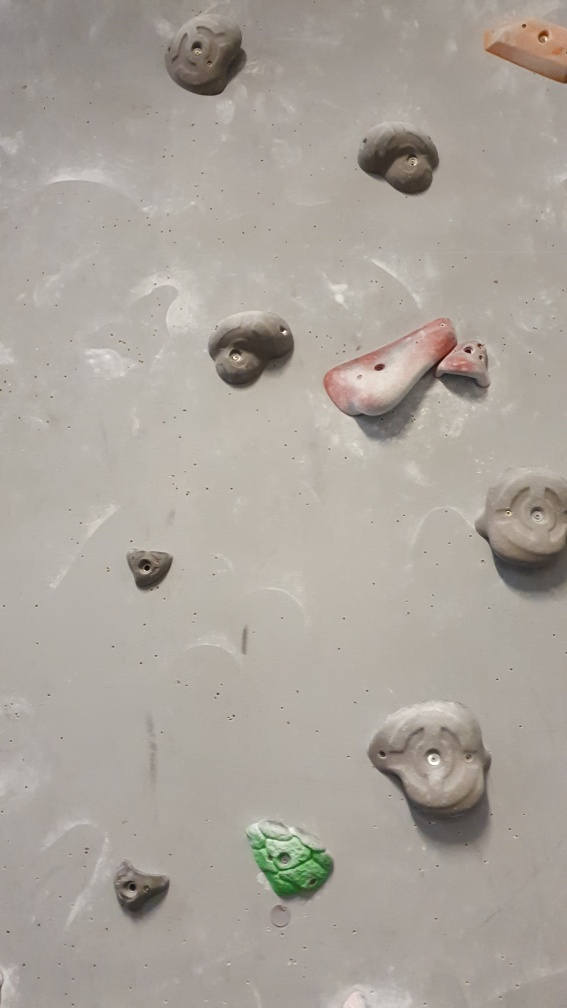Crimp: (123, 545, 175, 592)
Hand Start: (268, 901, 294, 928)
Jug: (366, 697, 495, 822), (472, 464, 567, 570), (206, 309, 297, 392), (162, 14, 246, 97), (358, 119, 439, 199)
